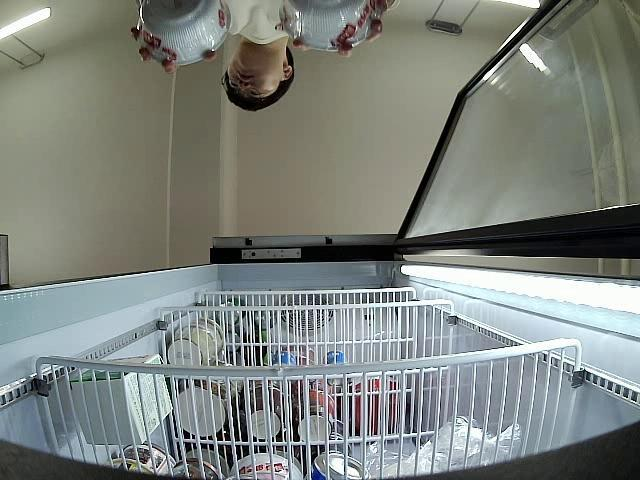09_yukGaeJang: (138, 0, 232, 67), (276, 0, 379, 51)
